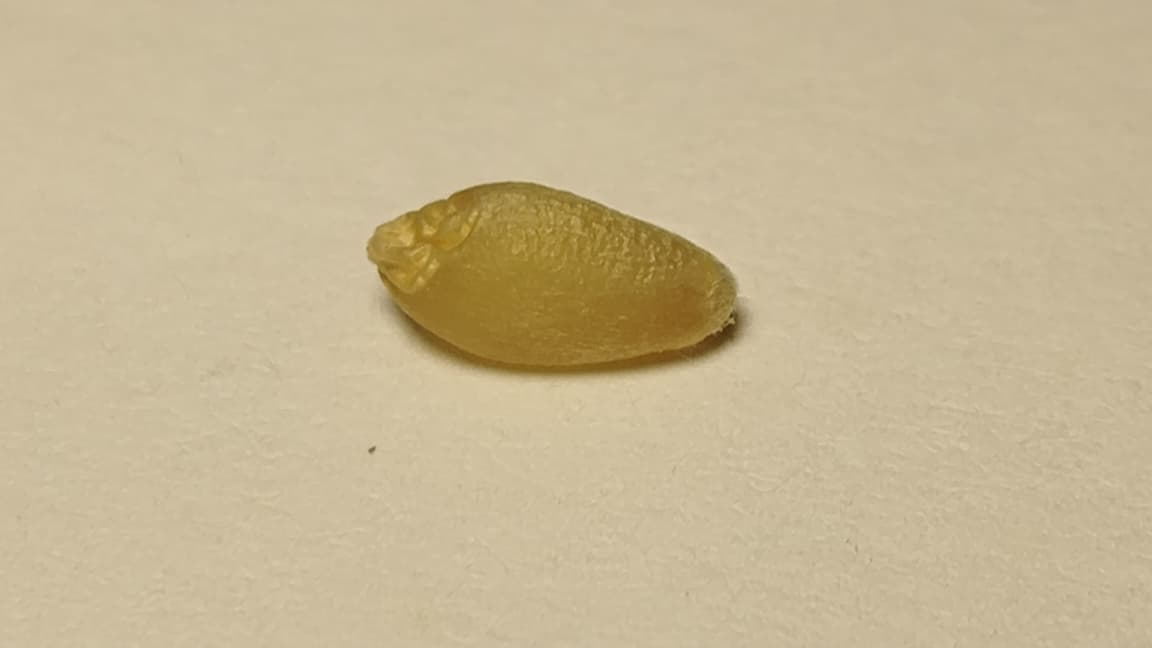healthy: (368, 180, 738, 372)
